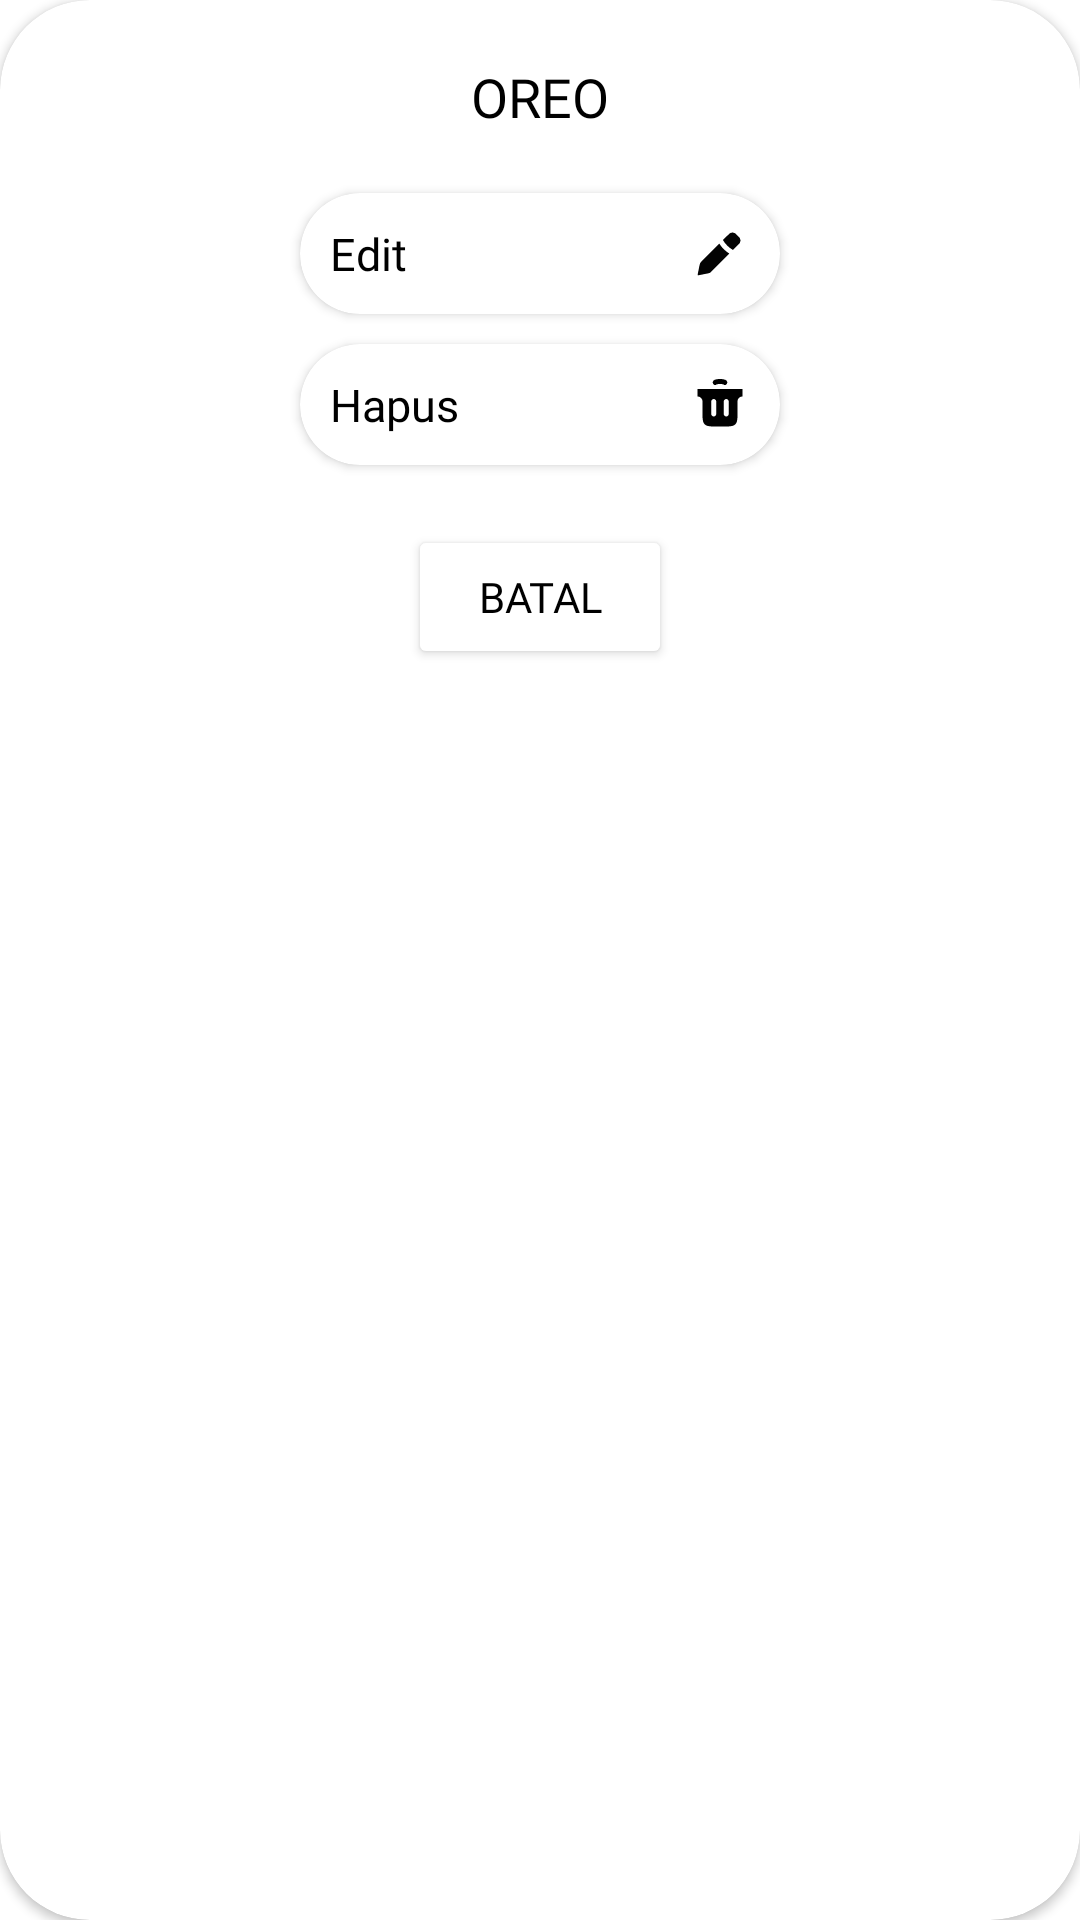

Icons on this 1080 x 1920 Android screen, each with its box as (x1, y1, x2, y2):
trash: (697, 379, 743, 427)
